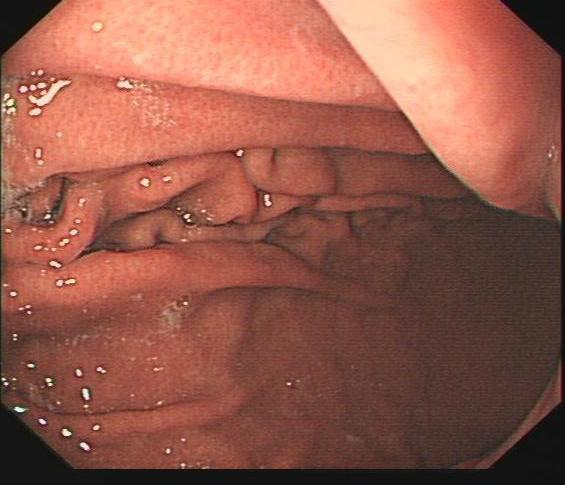Polyp: (123, 157, 182, 207)
